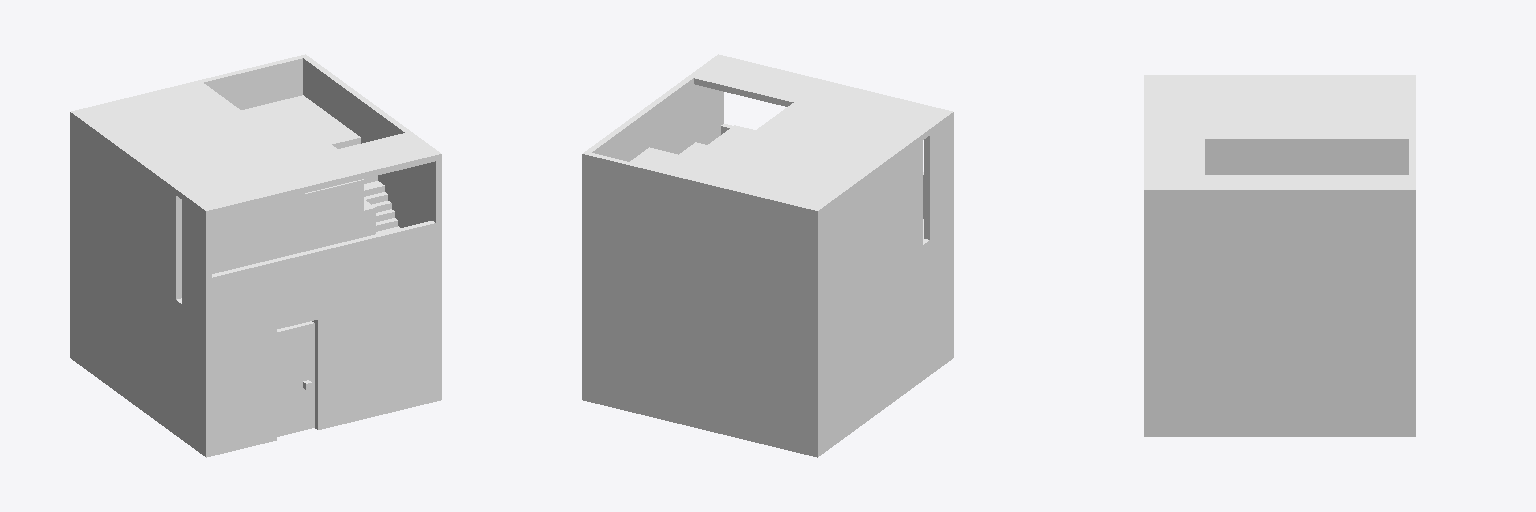
File: casa.obj
3 views of the same model, side by side, from view 1: azimuth 30°, elevation 25°; view 2: azimuth 150°, elevation 25°; view 3: azimuth 270°, elevation 25° (orthographic).
Visible parts, largest first — view 1: object 1; view 2: object 1; view 3: object 1.
Boxes of the visible parts, <box> form: object 1: <box>70,54,441,457</box>; object 1: <box>582,54,953,457</box>; object 1: <box>1144,75,1415,436</box>.
Size of the model in its own units: 4 by 4 by 4.